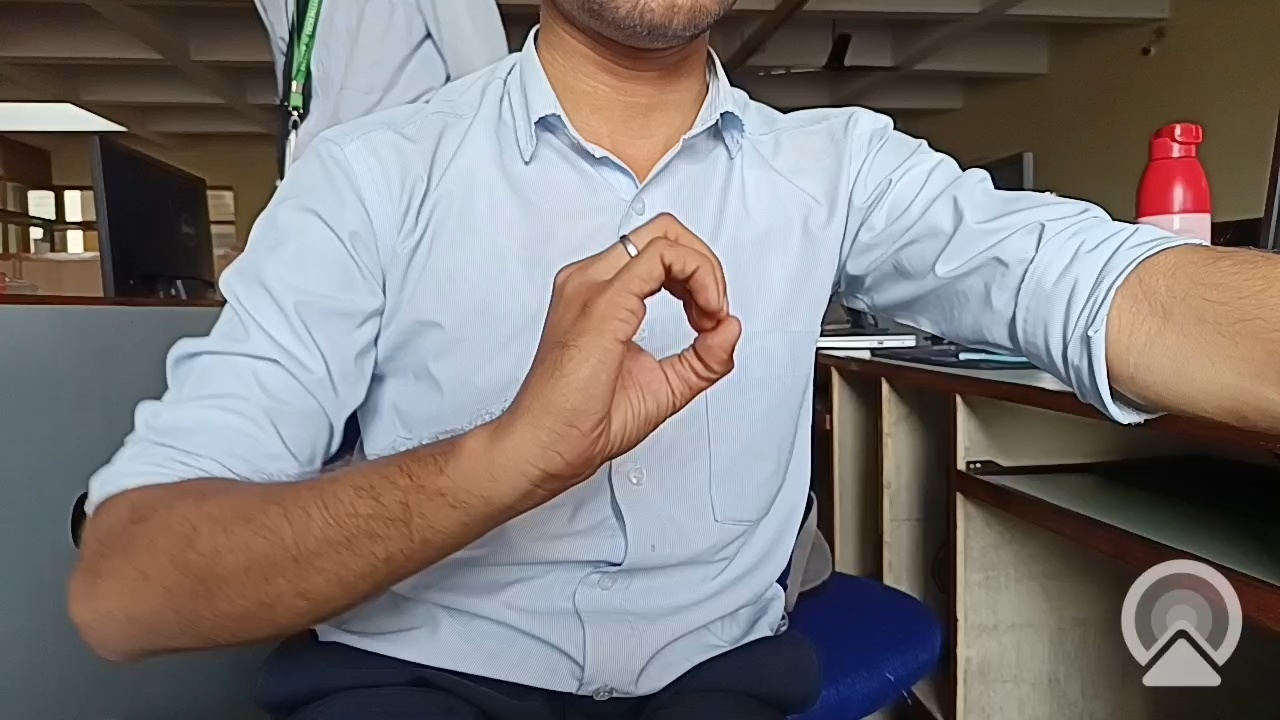O: (506, 194, 799, 499)
